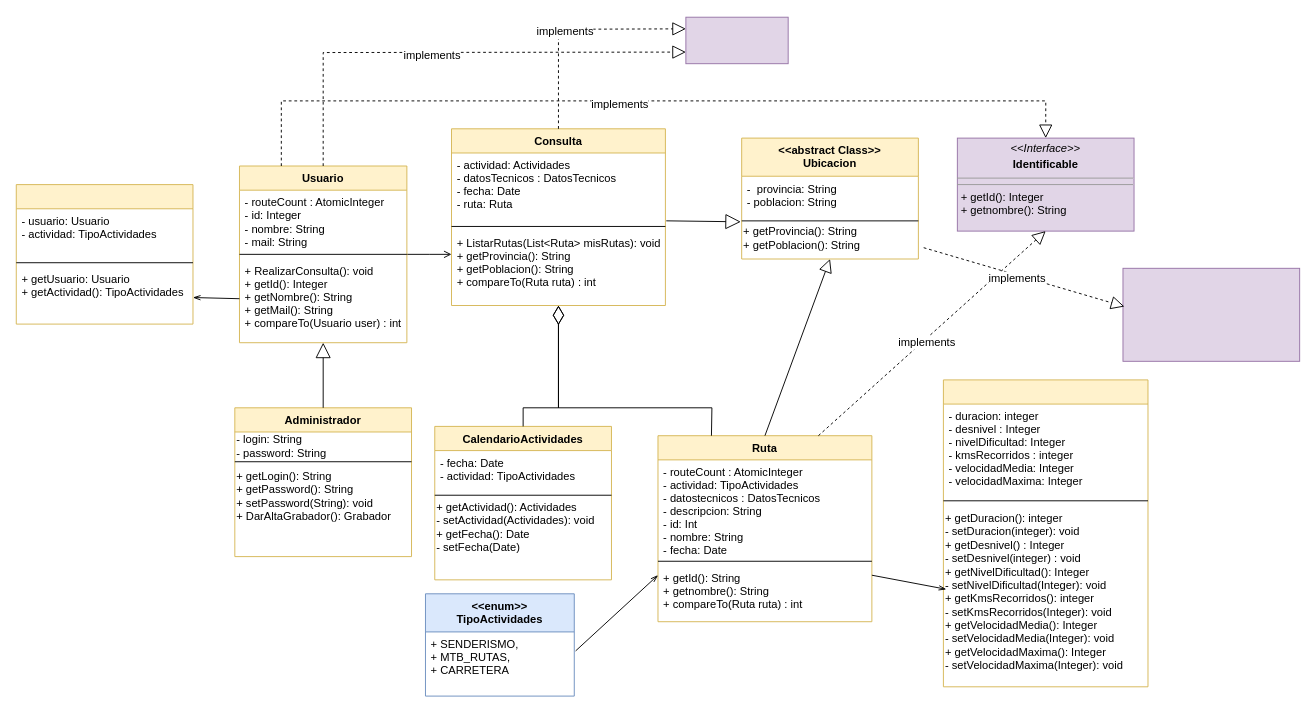
This 1316x712 diagram has some shape labels left out. The box of each missing label's shape, as (x1, y1, x2, y2) in pixels:
<<Interface>> Localizable + getProvincia(): String + getPoblacion(): String: (1122, 267, 1300, 361)
DatosTecnicos: (942, 379, 1148, 687)
Suscripcion: (15, 184, 193, 324)
«interface» Comparable: (685, 16, 788, 64)
